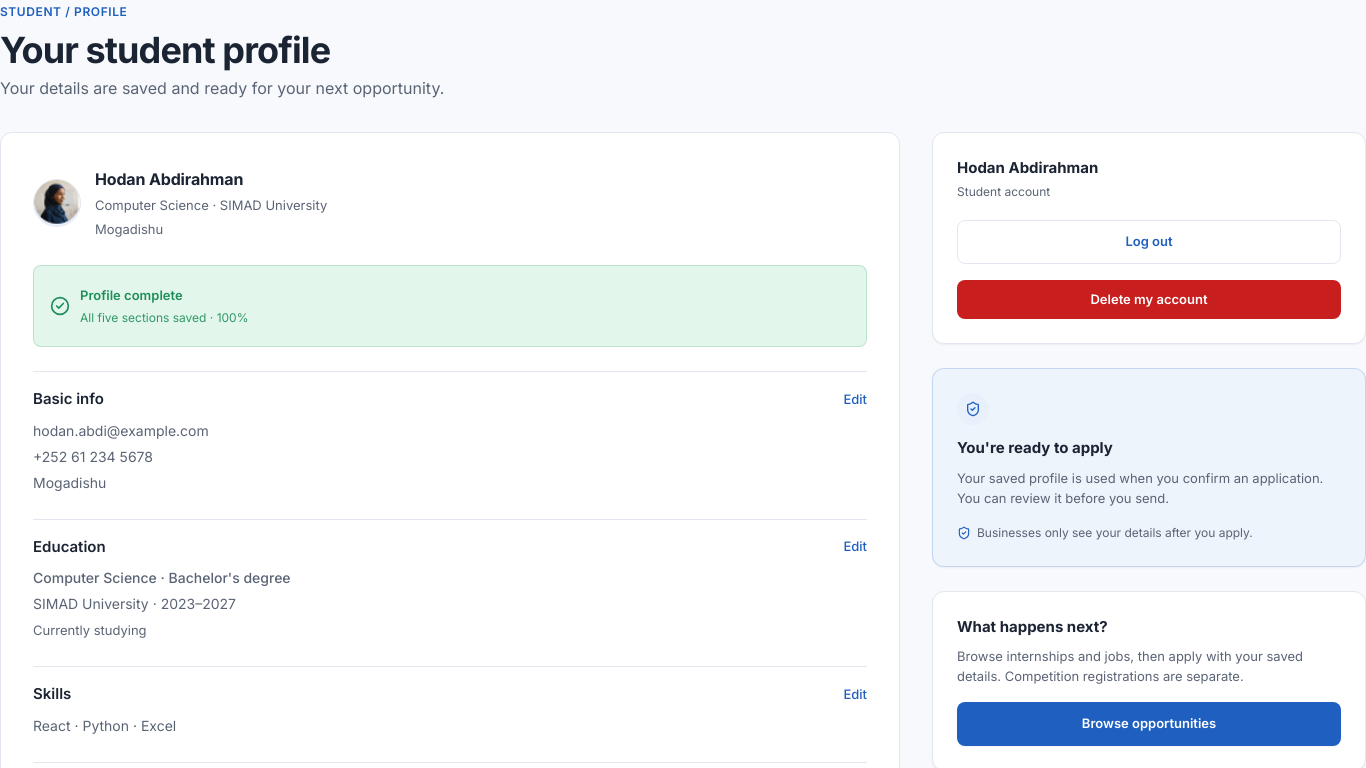
Test: Student Workspace — Phase 7 Suite › Student Profile › opens delete account confirmation modal
Click the button "Delete my account" at (1149, 299), box [957,280,1341,319]
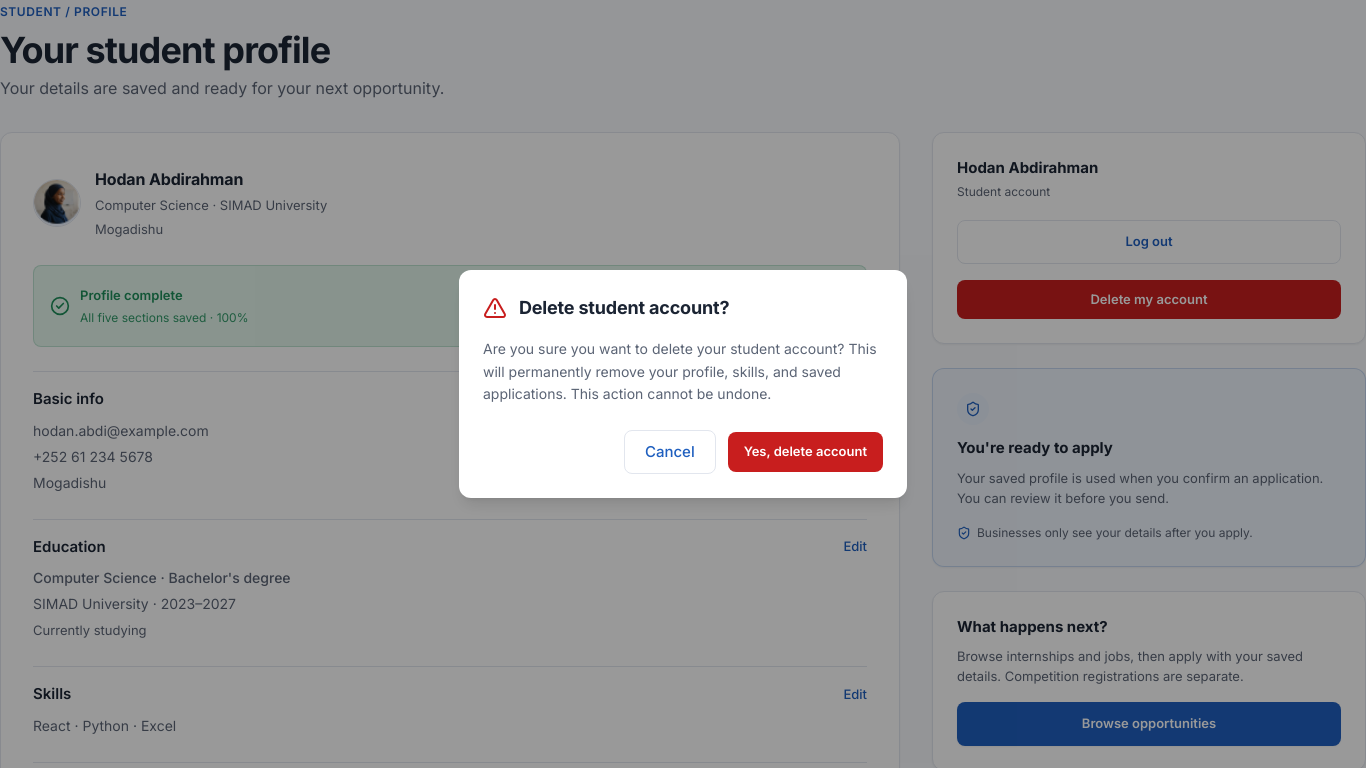
Check: the heading "Delete student account?" is shown, box [519,294,729,322]
Check: the button "Yes, delete account" is shown, box [728,432,883,472]
# Click Cancel on modal
Click the button "Cancel" at (670, 452), box [624,430,716,474]
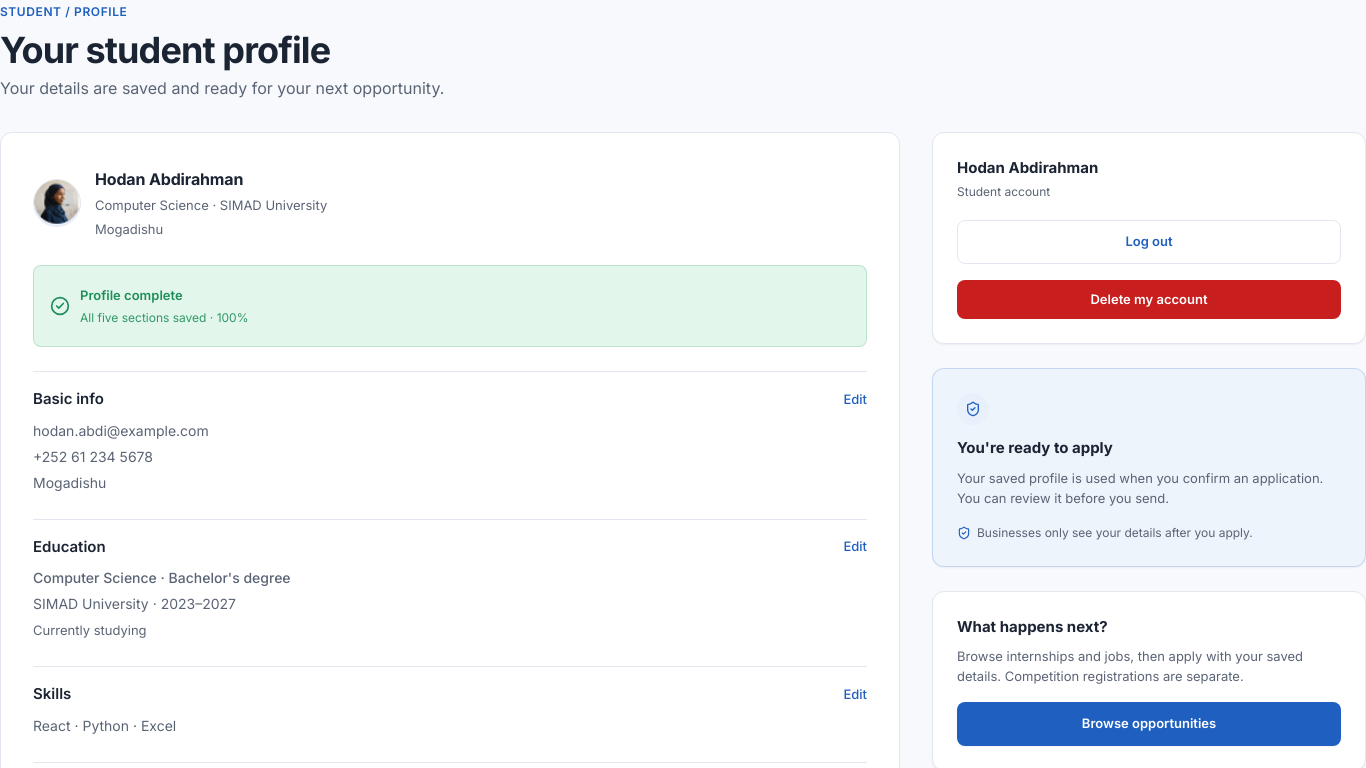
Check: the heading "Delete student account?" is gone
# Click Delete my account again and confirm
Click the button "Delete my account" at (1149, 299), box [957,280,1341,319]
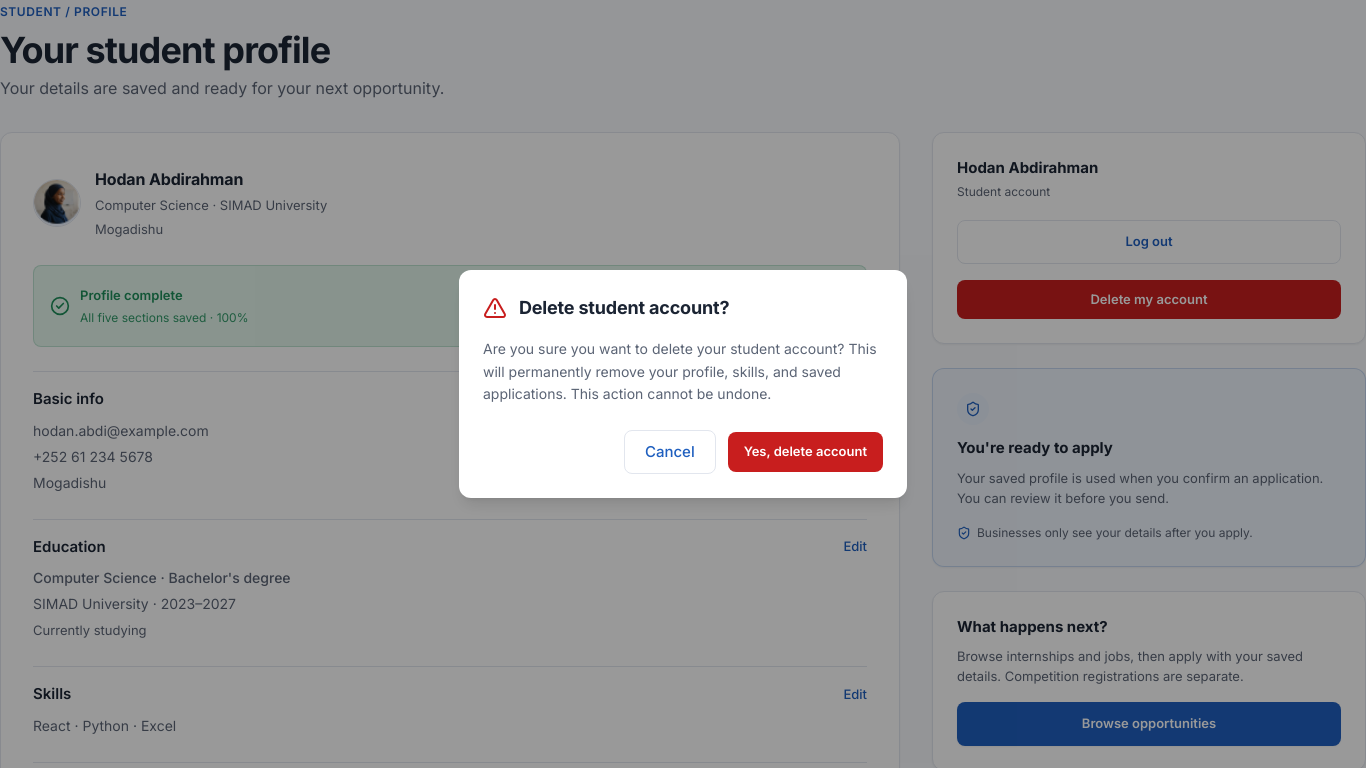
Check: the button "Yes, delete account" is shown
Click the button "Yes, delete account" at (805, 452), box [728,432,883,472]
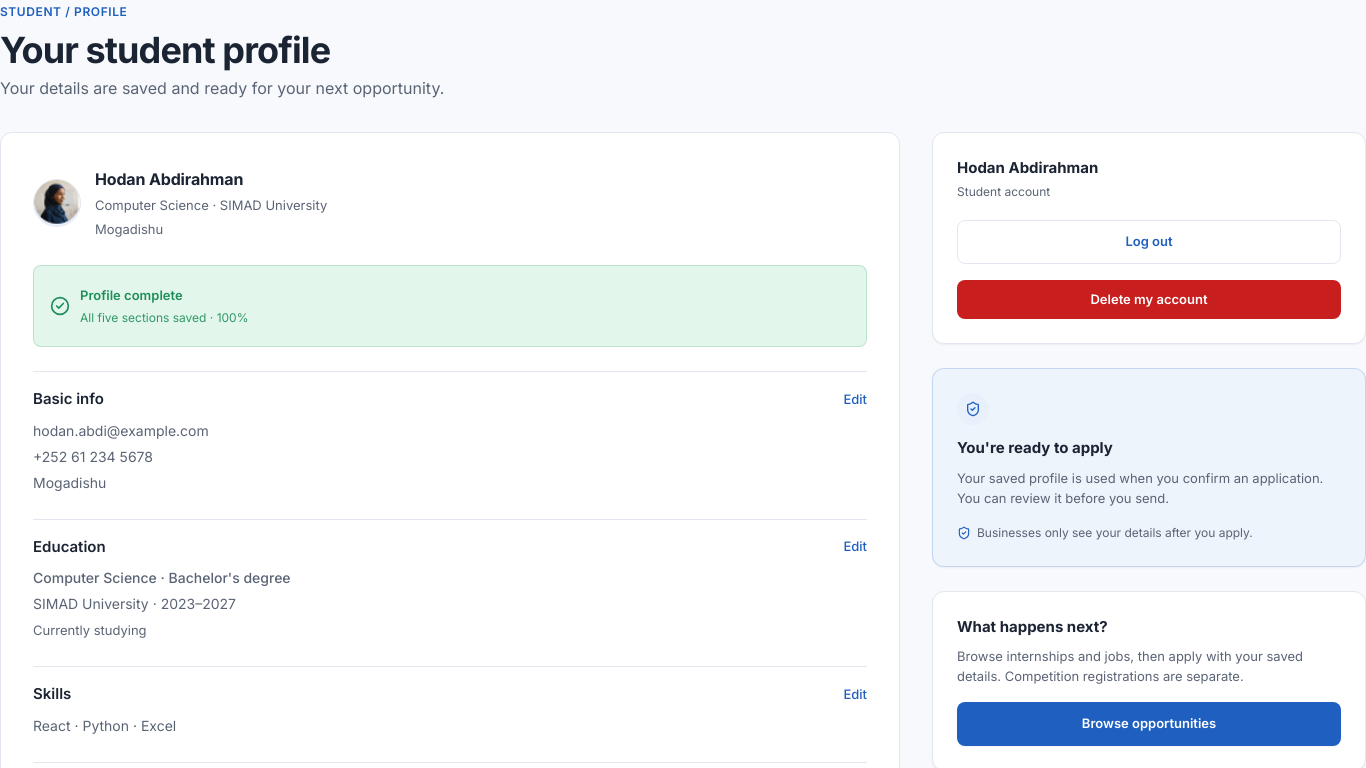
Check: the heading "Delete student account?" is gone
